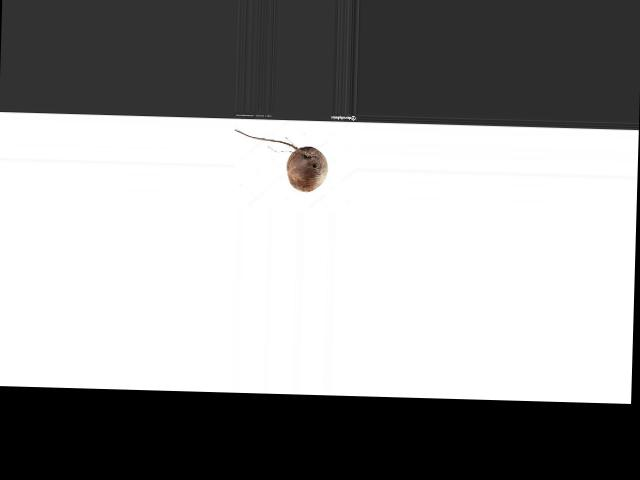beet: (232, 129, 327, 191)
